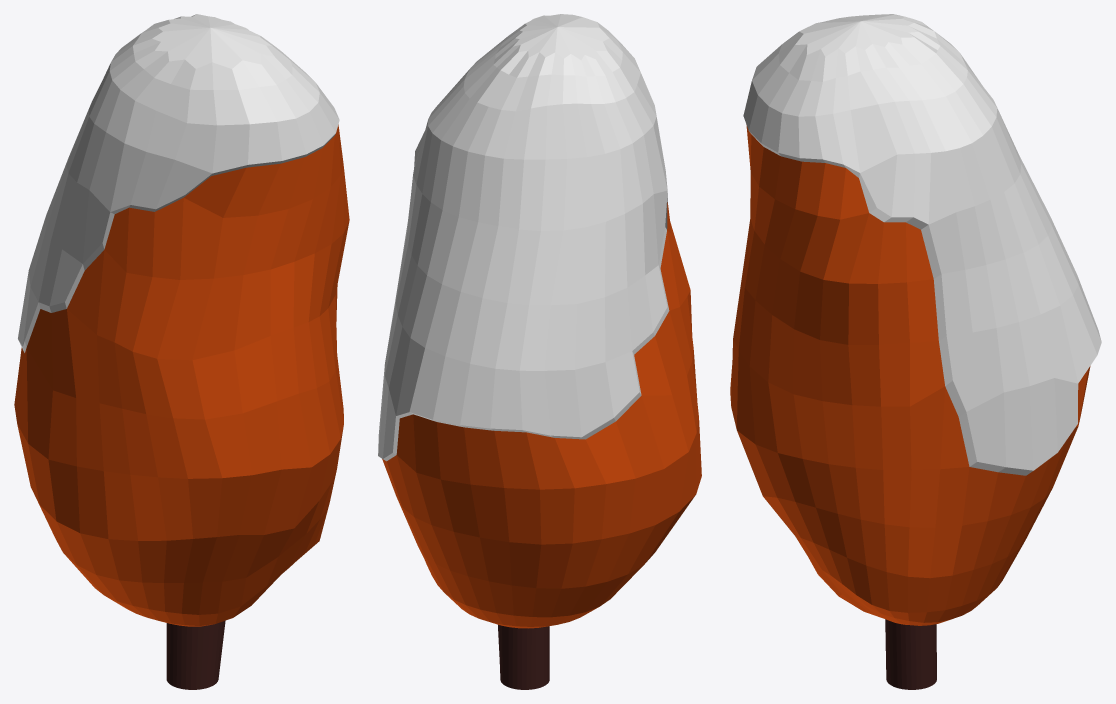
Rendered from Tree4b.fbx.
The picture shows the model from 3 angles, left to right: view 1: azimuth 30°, elevation 25°; view 2: azimuth 150°, elevation 25°; view 3: azimuth 270°, elevation 25°; orthographic projection. The views are drawn at different scales.
Parts seen in each view (by area): view 1: Tree4.001; view 2: Tree4.001; view 3: Tree4.001.
Boxes of the visible parts, <box> form: Tree4.001: <box>14,14,349,689</box>; Tree4.001: <box>378,14,701,689</box>; Tree4.001: <box>730,14,1101,689</box>.
Bounding box in the file's own units: 1083 × 2453 × 1263.
